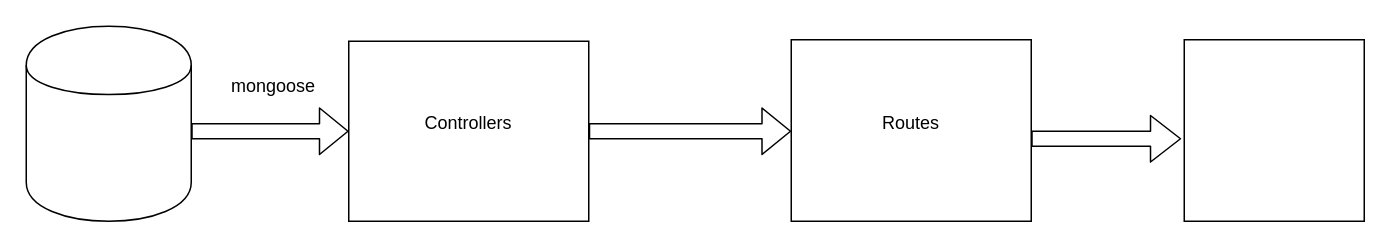
Image size: 1391x248. Some labels were removed from this diagram. The shapes that lost their labels are listed below. From the top down, each one's centre as x and y in pixels, then its label:
point (108, 123): mongoDB
point (1273, 129): Frontend
